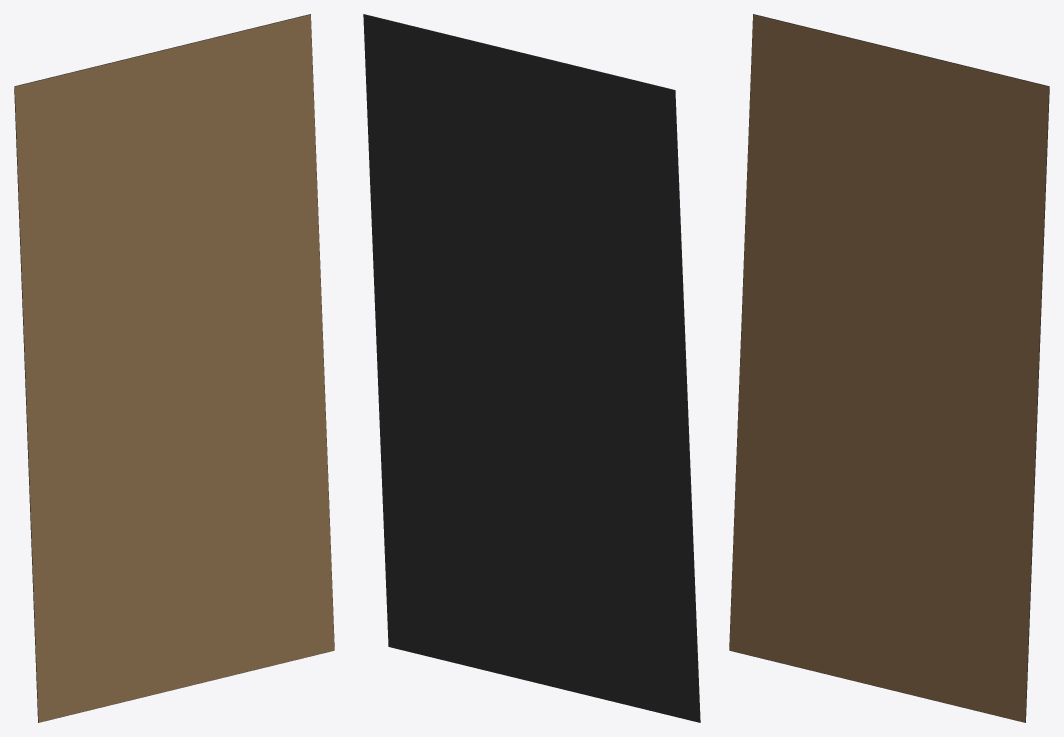
3 views of the same model, side by side, from view 1: azimuth 30°, elevation 25°; view 2: azimuth 150°, elevation 25°; view 3: azimuth 330°, elevation 25° (orthographic). The views are drawn at different scales.
Parts seen in each view (by area): view 1: xc_mirror, acrylic-mirror; view 2: acrylic-mirror; view 3: xc_mirror, acrylic-mirror.
Part boxes in pixels (left/top/right/bottom): xc_mirror: left=14, top=14, right=334, bottom=722; acrylic-mirror: left=14, top=14, right=334, bottom=722; acrylic-mirror: left=363, top=14, right=700, bottom=722; xc_mirror: left=729, top=14, right=1049, bottom=722; acrylic-mirror: left=729, top=14, right=1049, bottom=722.
Size of the model in its own units: 1.22 by 2.43 by 0.1725.
